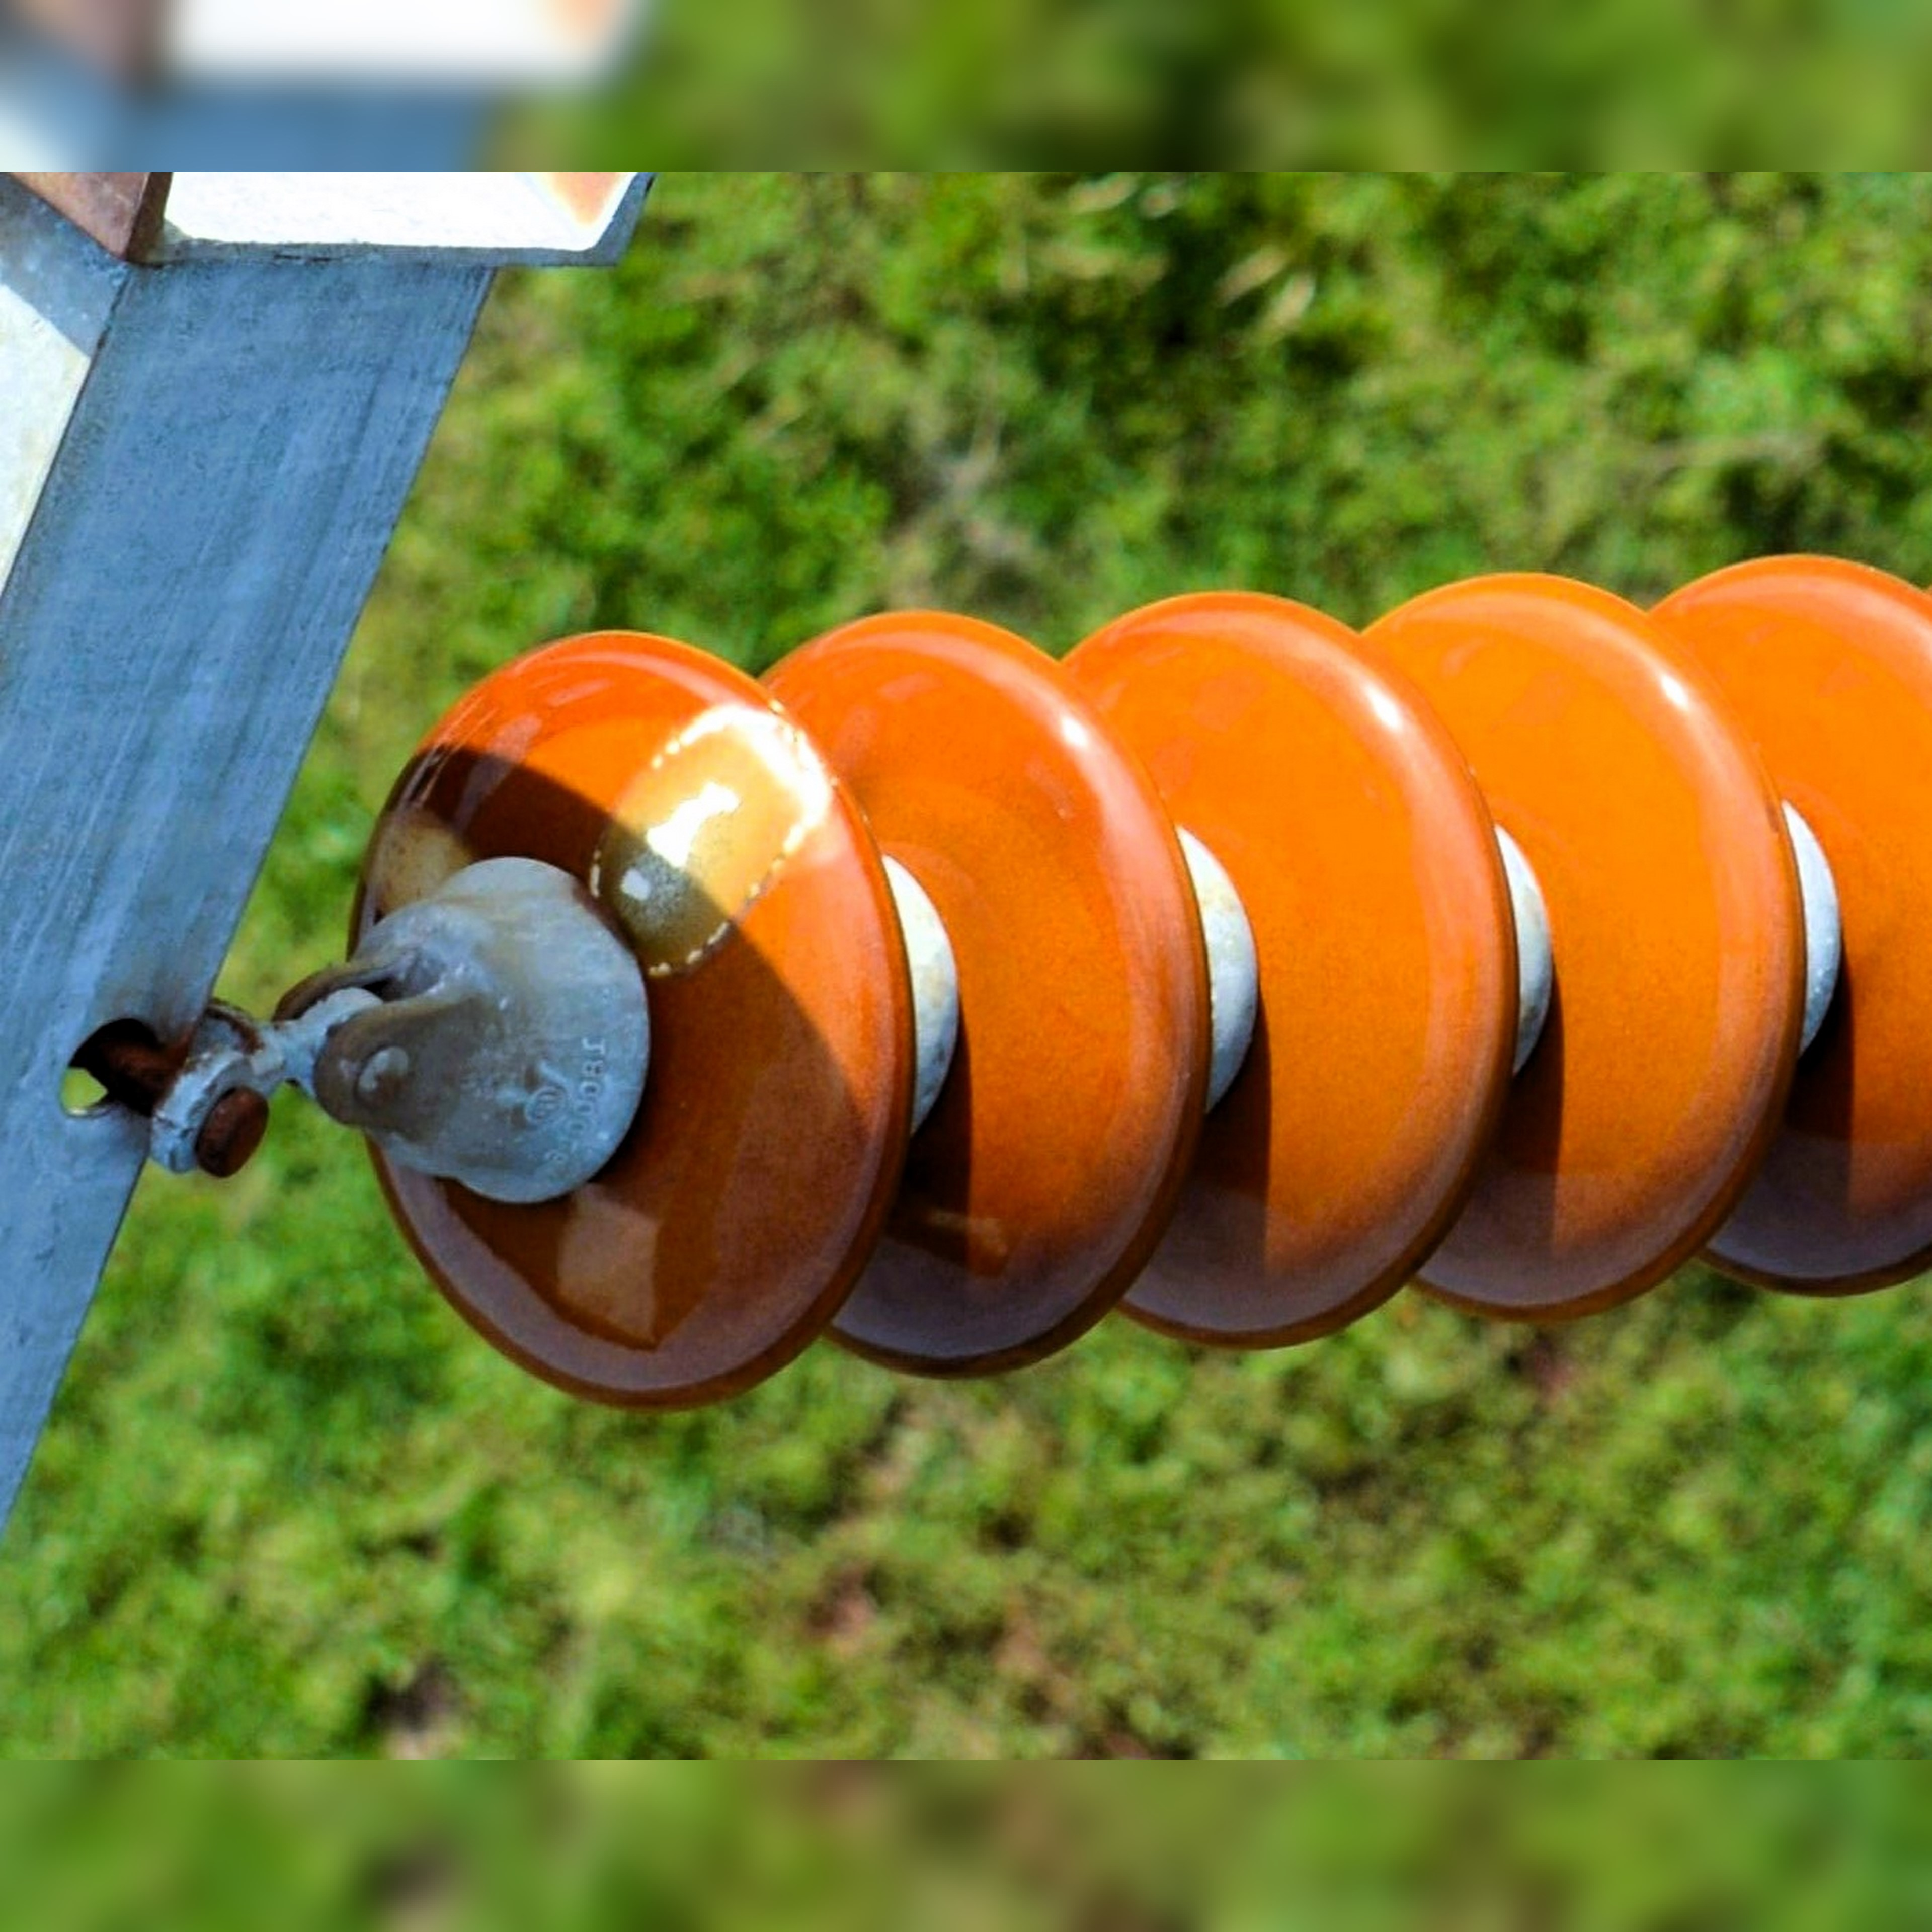Insulator flashover: (331, 621, 922, 1410)
